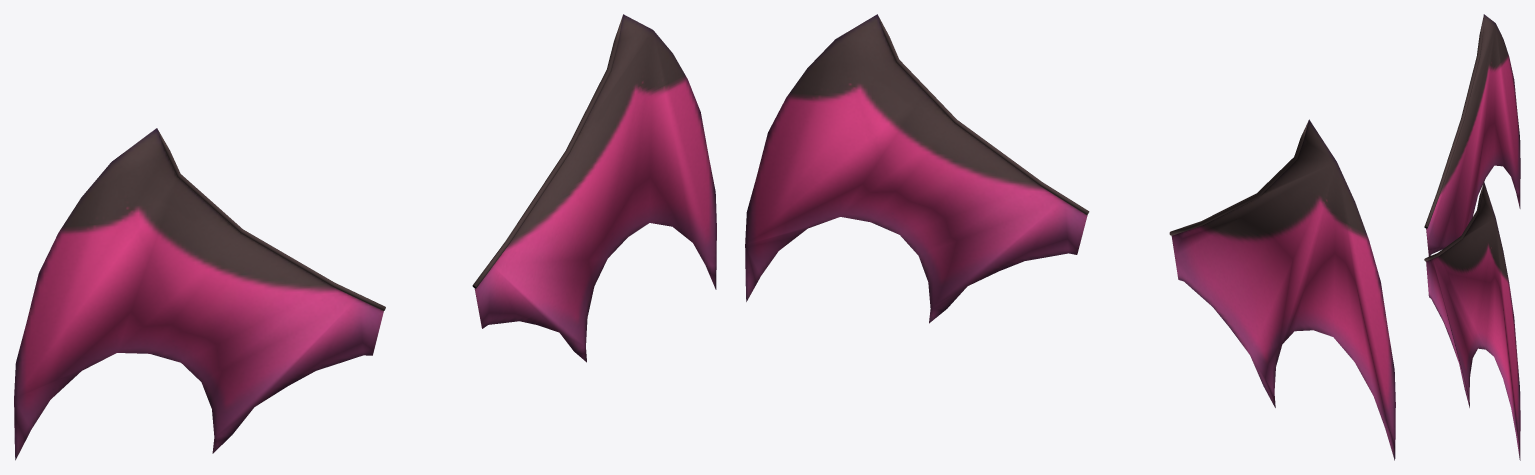
Rendered from Verosica Wings.glb.
3 renders of one model, left to right at view 1: azimuth 30°, elevation 25°; view 2: azimuth 150°, elevation 25°; view 3: azimuth 270°, elevation 25°, orthographic. The views are drawn at different scales.
Parts seen in each view (by area): view 1: VerosicaWing_R, VerosicaWing_L; view 2: VerosicaWing_L, VerosicaWing_R; view 3: VerosicaWing_L, VerosicaWing_R.
Boxes of the visible parts, <box> form: VerosicaWing_R: <box>14,128,385,460</box>; VerosicaWing_L: <box>472,14,716,362</box>; VerosicaWing_L: <box>745,14,1089,323</box>; VerosicaWing_R: <box>1169,119,1395,460</box>; VerosicaWing_L: <box>1424,182,1520,460</box>; VerosicaWing_R: <box>1424,14,1520,256</box>.
Bounding box in the file's own units: 1.71 × 0.7691 × 0.2756.
1 material, 1 textured.
